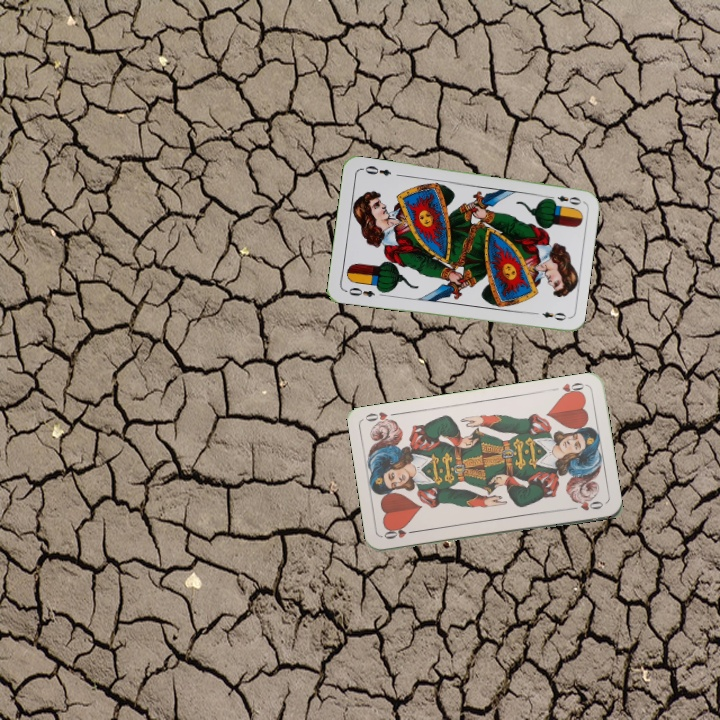EO: (544, 191, 584, 207), (341, 283, 377, 300)
HO: (548, 379, 588, 399), (380, 526, 420, 542)
